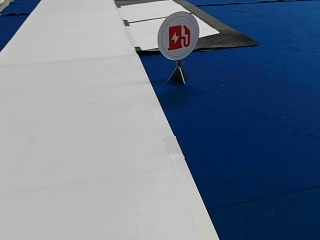battery: (157, 11, 199, 59)
